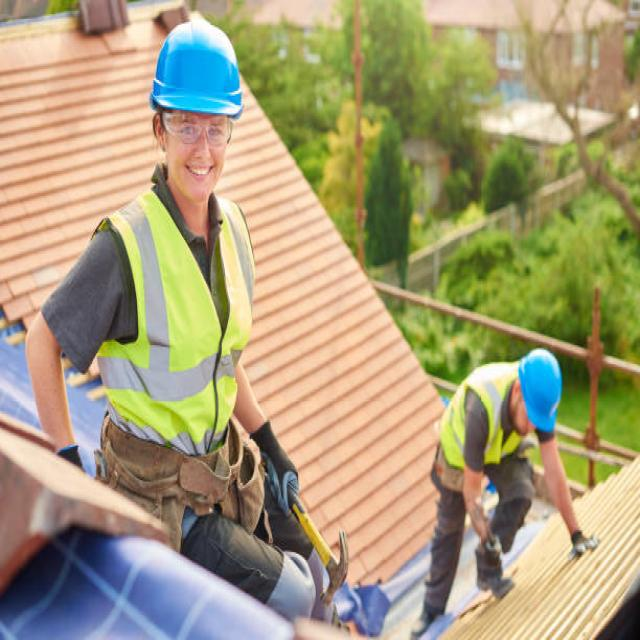gloves: (30, 441, 85, 535), (251, 419, 300, 513)
